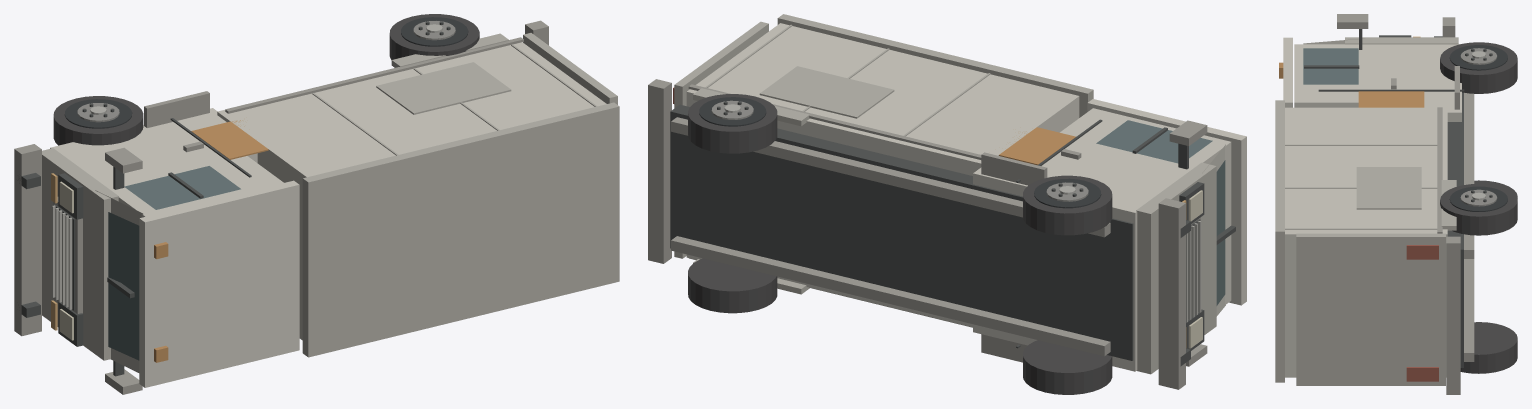
File: delivery_step_van.glb
3 views of the same model, side by side, from view 1: azimuth 30°, elevation 25°; view 2: azimuth 150°, elevation 25°; view 3: azimuth 270°, elevation 25° (orthographic). The views are drawn at different scales.
Visible parts, largest first — view 1: 004_cargo_roof, 009_cab_roof, 003_cargo_box, 008_nose_front, 049_front_bumper, 006_cab_lower, 011_front_windshield, 028_cargo_side_repair_plate, 007_cab_upper, 023_cab_side_window, 071_front_tire, 091_rear_tire (+15 smaller); view 2: 000_underbody_frame, 003_cargo_box, 001_chassis_rail, 008_nose_front, 006_cab_lower, 049_front_bumper, 002_chassis_rail, 007_cab_upper, 050_rear_bumper, 061_front_tire, 009_cab_roof, 081_rear_tire (+17 smaller); view 3: 005_rear_end, 003_cargo_box, 006_cab_lower, 007_cab_upper, 028_cargo_side_repair_plate, 004_cargo_roof, 050_rear_bumper, 081_rear_tire, 091_rear_tire, 071_front_tire, 023_cab_side_window, 000_underbody_frame (+20 smaller).
Part boxes in pixels (bbox=[...]): 004_cargo_roof: bbox=[302, 102, 619, 357]; 009_cab_roof: bbox=[139, 180, 299, 387]; 003_cargo_box: bbox=[217, 42, 606, 340]; 008_nose_front: bbox=[42, 148, 118, 360]; 049_front_bumper: bbox=[14, 144, 41, 336]; 006_cab_lower: bbox=[50, 108, 257, 182]; 011_front_windshield: bbox=[108, 212, 139, 360]; 028_cargo_side_repair_plate: bbox=[376, 62, 511, 114]; 007_cab_upper: bbox=[101, 154, 283, 217]; 023_cab_side_window: bbox=[124, 166, 240, 209]; 071_front_tire: bbox=[53, 96, 143, 145]; 091_rear_tire: bbox=[389, 14, 479, 59]; 000_underbody_frame: bbox=[670, 104, 1133, 360]; 003_cargo_box: bbox=[686, 23, 1079, 327]; 001_chassis_rail: bbox=[671, 236, 1110, 356]; 008_nose_front: bbox=[1136, 162, 1216, 374]; 006_cab_lower: bbox=[973, 148, 1181, 371]; 049_front_bumper: bbox=[1158, 198, 1185, 389]; 002_chassis_rail: bbox=[671, 117, 1110, 237]; 007_cab_upper: bbox=[1060, 108, 1231, 304]; 050_rear_bumper: bbox=[648, 79, 671, 263]; 061_front_tire: bbox=[1023, 340, 1112, 394]; 009_cab_roof: bbox=[1087, 99, 1246, 305]; 081_rear_tire: bbox=[688, 258, 777, 313]; 005_rear_end: bbox=[1296, 233, 1445, 385]; 003_cargo_box: bbox=[1285, 107, 1447, 377]; 006_cab_lower: bbox=[1377, 44, 1461, 121]; 007_cab_upper: bbox=[1294, 44, 1377, 107]; 028_cargo_side_repair_plate: bbox=[1356, 167, 1421, 209]; 004_cargo_roof: bbox=[1275, 100, 1284, 382]; 050_rear_bumper: bbox=[1446, 236, 1460, 394]; 081_rear_tire: bbox=[1460, 322, 1517, 373]; 091_rear_tire: bbox=[1440, 183, 1517, 235]; 071_front_tire: bbox=[1440, 42, 1517, 93]; 023_cab_side_window: bbox=[1303, 48, 1358, 84]; 000_underbody_frame: bbox=[1447, 92, 1463, 367].
Size of the model in its own units: 7.06 by 2.92 by 3.25.
